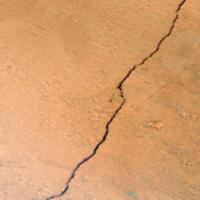crack: (43, 0, 189, 199)
